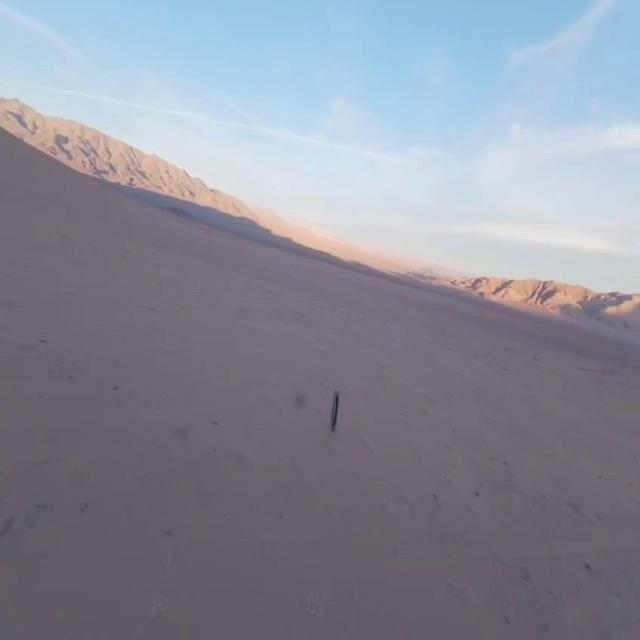Tire: (331, 391, 339, 430)
